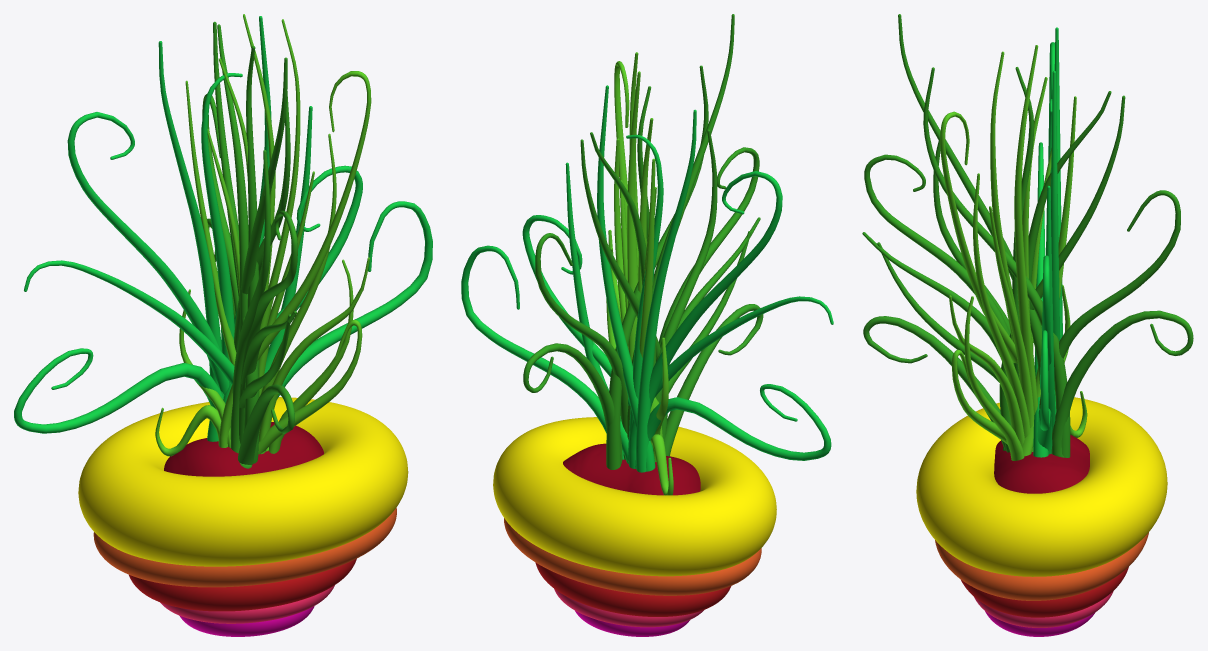
Rendered from odd grass.fbx.
3 views of the same model, side by side, from view 1: azimuth 30°, elevation 25°; view 2: azimuth 150°, elevation 25°; view 3: azimuth 270°, elevation 25° (orthographic). The views are drawn at different scales.
Parts seen in each view (by area): view 1: root (×6), node_id90 (×9), node_id102 (×11), node_id117 (×12); view 2: root (×6), node_id90 (×9), node_id102 (×12), node_id117 (×8); view 3: root (×6), node_id102 (×12), node_id117 (×11), node_id90 (×6).
Part boxes in pixels (bbox=[...]): root (×6): bbox=[78, 397, 408, 636]; node_id90 (×9): bbox=[14, 16, 432, 441]; node_id102 (×11): bbox=[202, 21, 297, 468]; node_id117 (×12): bbox=[155, 14, 371, 456]; root (×6): bbox=[493, 417, 776, 636]; node_id90 (×9): bbox=[461, 85, 833, 472]; node_id102 (×12): bbox=[523, 14, 763, 469]; node_id117 (×8): bbox=[614, 52, 673, 495]; root (×6): bbox=[916, 397, 1167, 636]; node_id102 (×12): bbox=[862, 14, 1193, 457]; node_id117 (×11): bbox=[940, 45, 1076, 460]; node_id90 (×6): bbox=[1033, 27, 1062, 457].
Size of the model in its own units: 0.3347 by 0.4815 by 0.2473.
40 materials, 6 textured.
